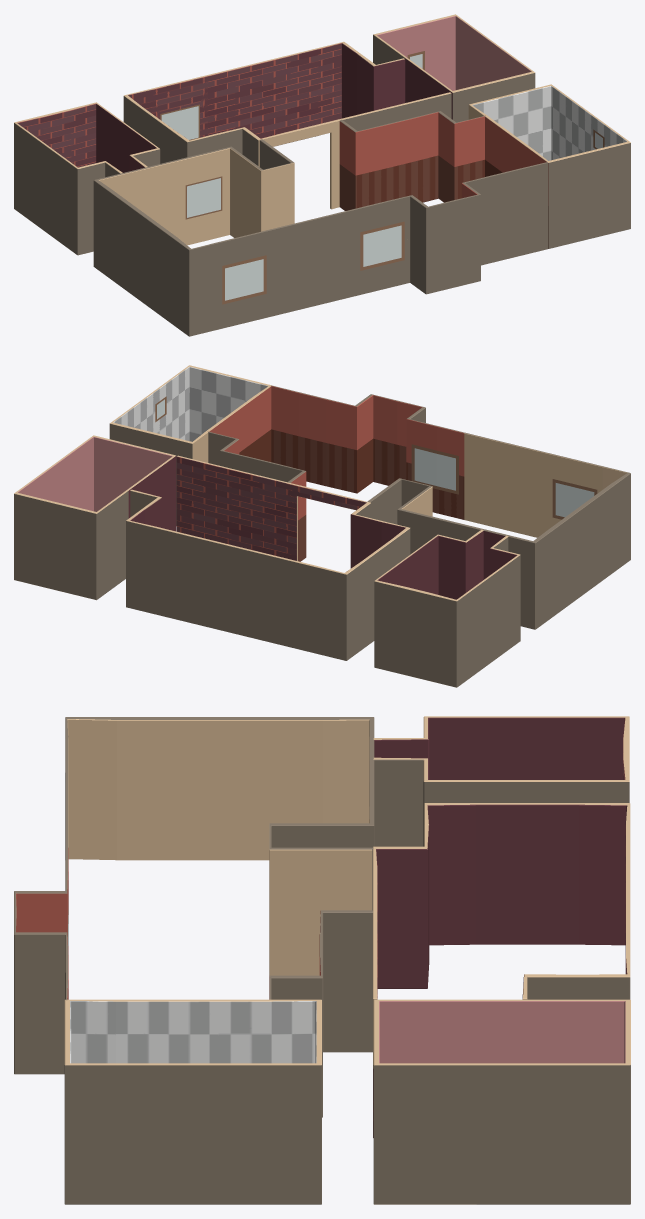
Rendered from N3_Paredes.fbx.
The picture shows the model from 3 angles, top to bottom: view 1: azimuth 30°, elevation 25°; view 2: azimuth 150°, elevation 25°; view 3: azimuth 270°, elevation 25°; orthographic projection. The views are drawn at different scales.
Visible parts, largest first — view 1: N3_Paredes_Cube.009; view 2: N3_Paredes_Cube.009; view 3: N3_Paredes_Cube.009.
Boxes of the visible parts, x1,y1,x2,y2 form: N3_Paredes_Cube.009: [14, 14, 630, 336]; N3_Paredes_Cube.009: [14, 365, 630, 687]; N3_Paredes_Cube.009: [14, 716, 630, 1204].
Size of the model in its own units: 1602 by 301 by 1198.
10 materials, 10 textured.
